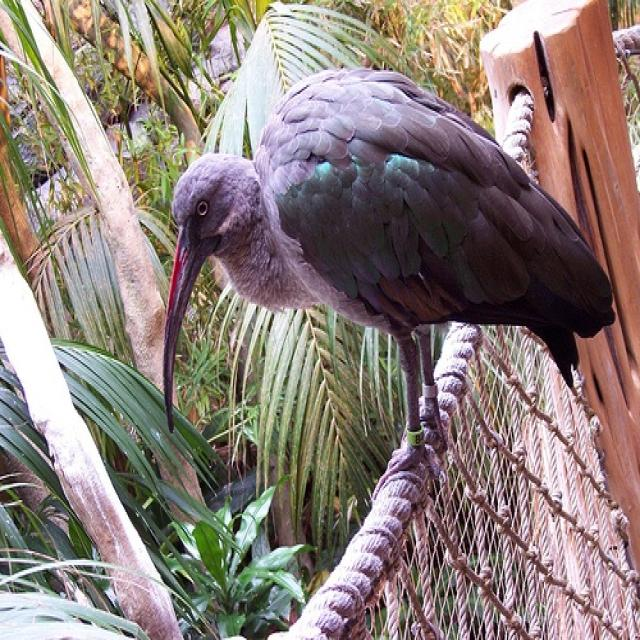bird: (159, 68, 612, 480)
